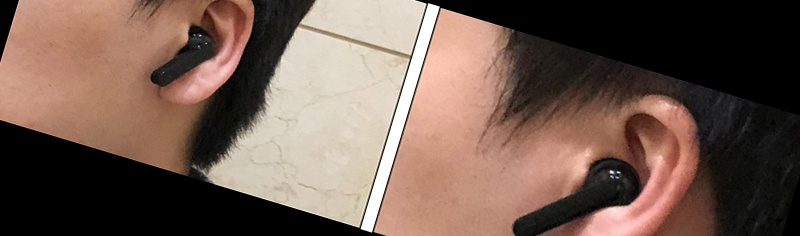earphone: (501, 64, 716, 236), (143, 0, 261, 119)
